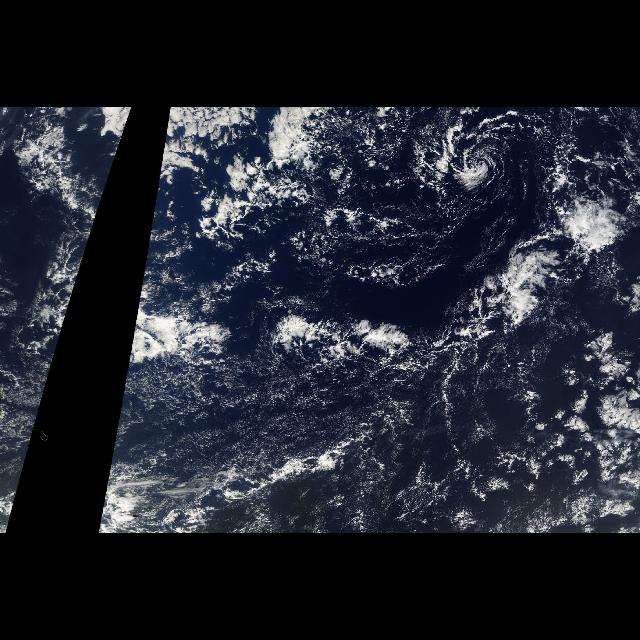Fish: (444, 184, 636, 368), (285, 146, 427, 294), (135, 298, 425, 368)
Flower: (461, 108, 639, 388)
Gravel: (282, 107, 580, 293), (146, 361, 510, 433)
Sugar: (118, 361, 392, 484)
